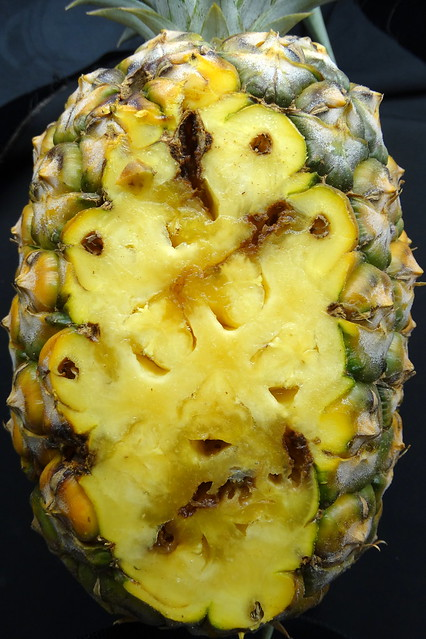pineapple: (17, 39, 411, 633)
